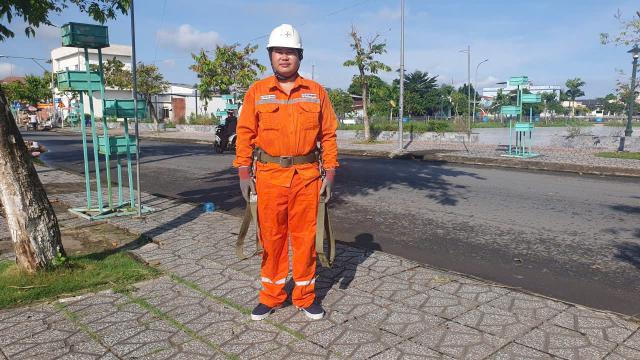gloves: (232, 162, 258, 203), (316, 166, 338, 207)
harness: (246, 142, 330, 167)
helmet: (248, 20, 316, 55)
shoes: (287, 286, 332, 326), (236, 288, 285, 322)
